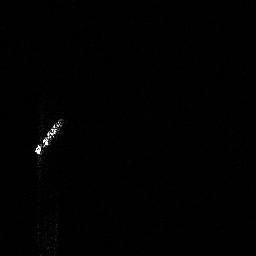ship: (31, 115, 67, 157)
